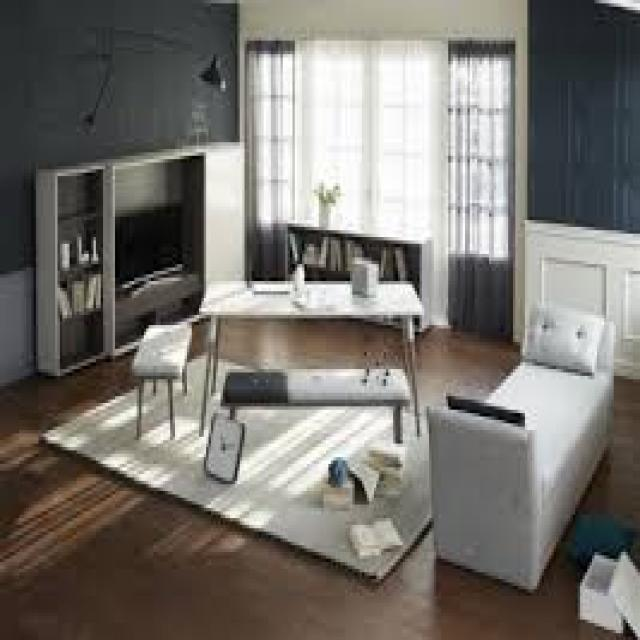Sofa: (430, 298, 617, 590)
Table: (203, 276, 423, 429)
tv: (114, 165, 195, 284)
window: (241, 27, 520, 257)
